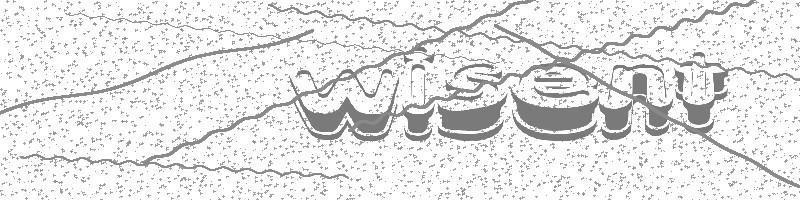e: (511, 59, 601, 142)
l: (403, 56, 434, 149)
n: (598, 61, 675, 144)
s: (432, 57, 510, 147)
t: (676, 50, 732, 144)
w: (280, 63, 403, 148)
